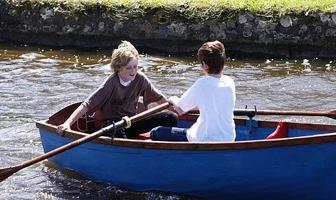person: (151, 40, 238, 143)
